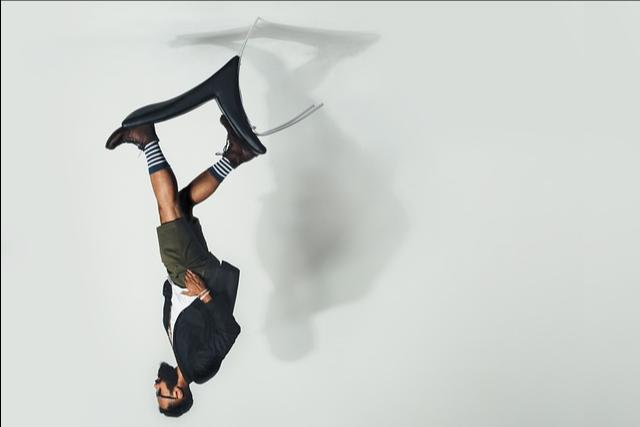Non_Gorille: (13, 0, 414, 427)
